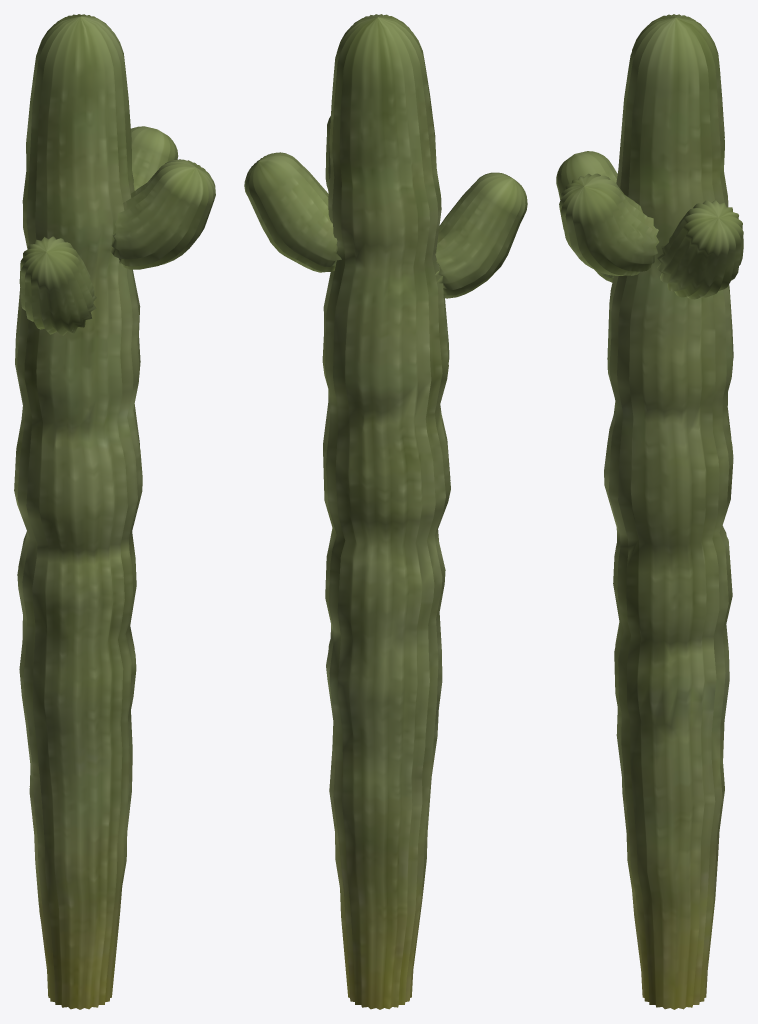
The model's file is p_saguaro_a.glb.
The picture shows the model from 3 angles, left to right: view 1: azimuth 30°, elevation 25°; view 2: azimuth 150°, elevation 25°; view 3: azimuth 270°, elevation 25°; orthographic projection.
Visible parts, largest first — view 1: Carnegiea_gigantea_HD; view 2: Carnegiea_gigantea_HD; view 3: Carnegiea_gigantea_HD.
Part boxes in pixels (<box>): Carnegiea_gigantea_HD: <box>14,14,215,1009</box>; Carnegiea_gigantea_HD: <box>244,14,527,1009</box>; Carnegiea_gigantea_HD: <box>556,14,743,1009</box>.
Bounding box in the file's own units: 0.645 × 2.84 × 0.4927.
2 materials, 2 textured.
